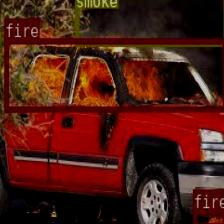fire: (3, 37, 224, 111), (192, 209, 224, 224)
smoke: (74, 0, 224, 44)
